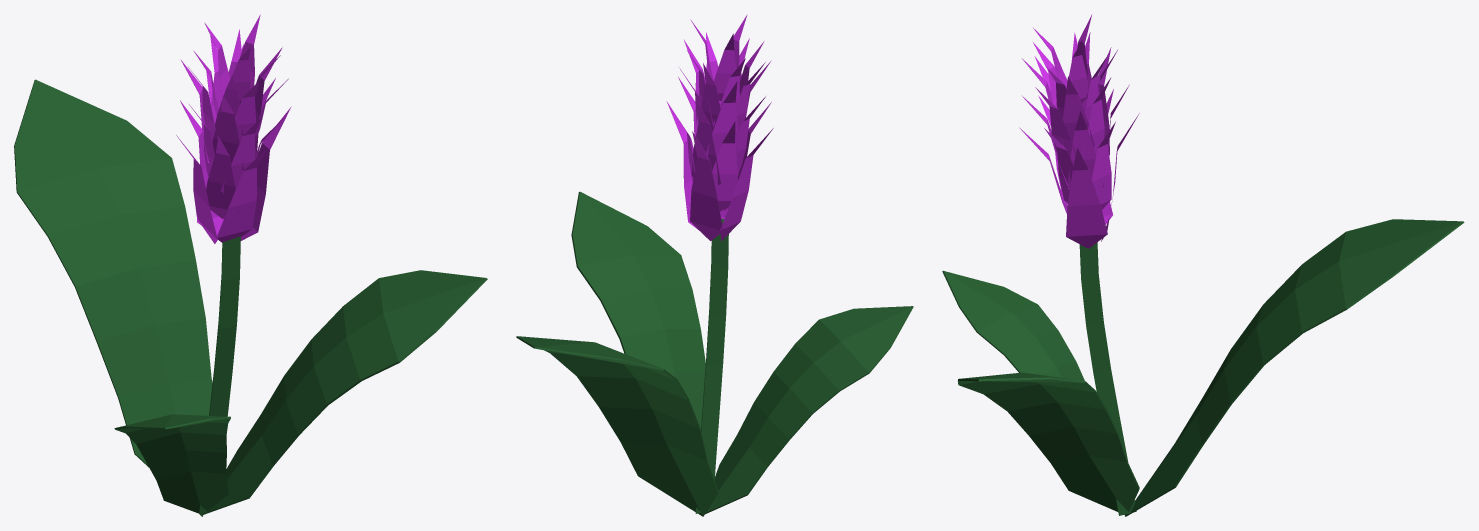
Rendered from flower6.fbx.
3 renders of one model, left to right at view 1: azimuth 30°, elevation 25°; view 2: azimuth 150°, elevation 25°; view 3: azimuth 270°, elevation 25°, orthographic. The views are drawn at different scales.
Parts seen in each view (by area): view 1: Plane.019; view 2: Plane.019; view 3: Plane.019.
Part boxes in pixels (x1=…): Plane.019: x1=14, y1=14, x2=487, y2=516; Plane.019: x1=516, y1=14, x2=913, y2=516; Plane.019: x1=942, y1=14, x2=1464, y2=516.
Size of the model in its own units: 245 by 344 by 329.
